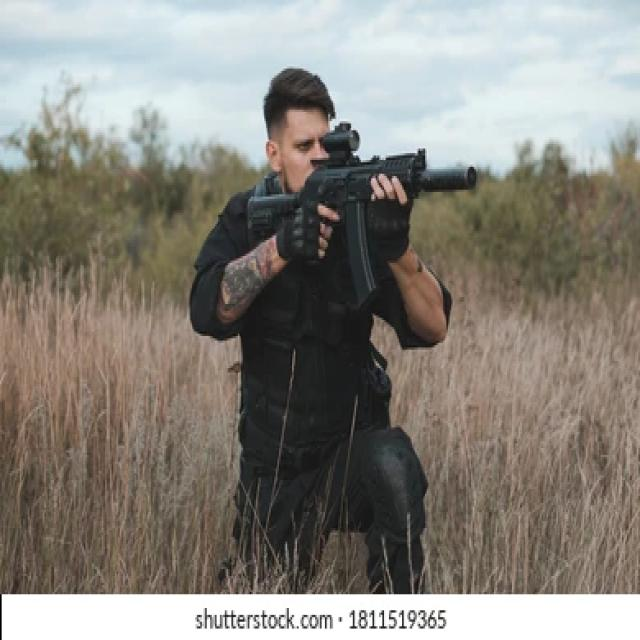soldier: (200, 69, 480, 594)
